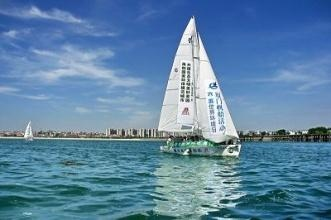fanchuan: (153, 18, 246, 161), (17, 112, 44, 144)
